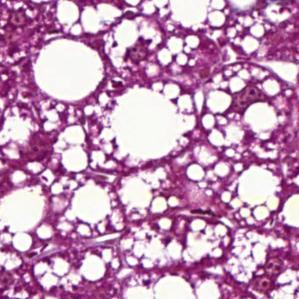steatosis: (33, 38, 103, 105)
